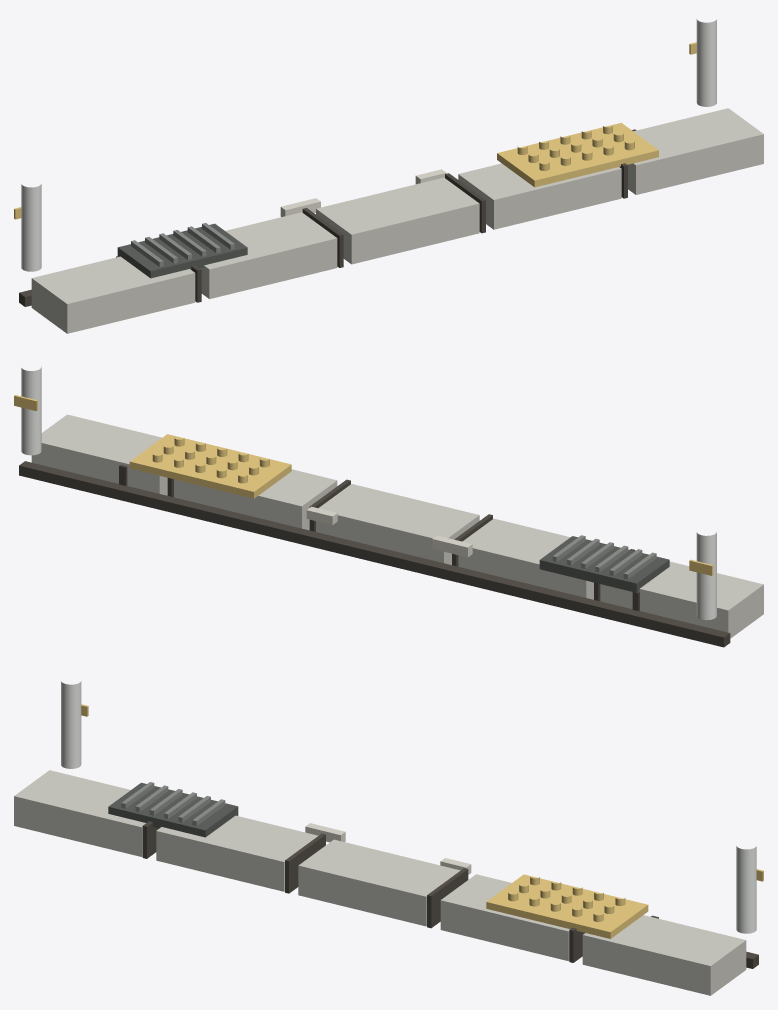
File: curb_details.glb
The picture shows the model from 3 angles, top to bottom: view 1: azimuth 30°, elevation 25°; view 2: azimuth 150°, elevation 25°; view 3: azimuth 330°, elevation 25°; orthographic projection.
Parts seen in each view (by area): view 1: curb_details_light_weathered_curb_segment_3, curb_details_light_weathered_curb_segment_1, curb_details_light_weathered_curb_segment_5, curb_details_light_weathered_curb_segment_2, curb_details_light_weathered_curb_segment_4, curb_details_yellow_tactile_warning_paver_slab, curb_details_storm_drain_cast_iron_frame, curb_details_short_bright_edge_bollard_1, curb_details_short_bright_edge_bollard_2; view 2: curb_details_front_asphalt_grime_receiving_lip, curb_details_light_weathered_curb_segment_3, curb_details_light_weathered_curb_segment_5, curb_details_light_weathered_curb_segment_1, curb_details_light_weathered_curb_segment_2, curb_details_yellow_tactile_warning_paver_slab, curb_details_light_weathered_curb_segment_4, curb_details_storm_drain_cast_iron_frame, curb_details_short_bright_edge_bollard_1, curb_details_short_bright_edge_bollard_2, curb_details_front_edge_chipped_concrete_large; view 3: curb_details_light_weathered_curb_segment_5, curb_details_light_weathered_curb_segment_3, curb_details_light_weathered_curb_segment_2, curb_details_light_weathered_curb_segment_1, curb_details_light_weathered_curb_segment_4, curb_details_yellow_tactile_warning_paver_slab, curb_details_storm_drain_cast_iron_frame, curb_details_short_bright_edge_bollard_2, curb_details_short_bright_edge_bollard_1, curb_details_dark_expansion_seam_3, curb_details_dark_expansion_seam_2.
Boxes of the visible parts, x1,y1,x2,y2 form: curb_details_light_weathered_curb_segment_3: [316, 177, 479, 264]; curb_details_light_weathered_curb_segment_1: [31, 256, 195, 333]; curb_details_light_weathered_curb_segment_5: [627, 108, 763, 194]; curb_details_light_weathered_curb_segment_2: [200, 212, 337, 298]; curb_details_light_weathered_curb_segment_4: [458, 163, 621, 229]; curb_details_yellow_tactile_warning_paver_slab: [497, 122, 658, 187]; curb_details_storm_drain_cast_iron_frame: [117, 223, 247, 278]; curb_details_short_bright_edge_bollard_1: [21, 184, 41, 271]; curb_details_short_bright_edge_bollard_2: [696, 19, 716, 106]; curb_details_front_asphalt_grime_receiving_lip: [19, 461, 730, 647]; curb_details_light_weathered_curb_segment_3: [316, 484, 479, 564]; curb_details_light_weathered_curb_segment_5: [31, 414, 167, 495]; curb_details_light_weathered_curb_segment_1: [600, 561, 763, 638]; curb_details_light_weathered_curb_segment_2: [458, 518, 593, 599]; curb_details_yellow_tactile_warning_paver_slab: [129, 434, 291, 498]; curb_details_light_weathered_curb_segment_4: [174, 469, 337, 530]; curb_details_storm_drain_cast_iron_frame: [539, 536, 669, 592]; curb_details_short_bright_edge_bollard_1: [696, 532, 716, 620]; curb_details_short_bright_edge_bollard_2: [21, 366, 41, 455]; curb_details_front_edge_chipped_concrete_large: [432, 535, 472, 557]; curb_details_light_weathered_curb_segment_5: [582, 915, 746, 995]; curb_details_light_weathered_curb_segment_3: [298, 839, 460, 926]; curb_details_light_weathered_curb_segment_2: [156, 815, 318, 891]; curb_details_light_weathered_curb_segment_1: [14, 770, 145, 856]; curb_details_light_weathered_curb_segment_4: [440, 874, 569, 960]; curb_details_yellow_tactile_warning_paver_slab: [486, 874, 648, 938]; curb_details_storm_drain_cast_iron_frame: [108, 782, 238, 837]; curb_details_short_bright_edge_bollard_2: [736, 846, 756, 933]; curb_details_short_bright_edge_bollard_1: [61, 681, 81, 768]; curb_details_dark_expansion_seam_3: [427, 868, 468, 928]; curb_details_dark_expansion_seam_2: [285, 833, 325, 893].
Size of the model in its own units: 5.95 by 0.92 by 0.78.
